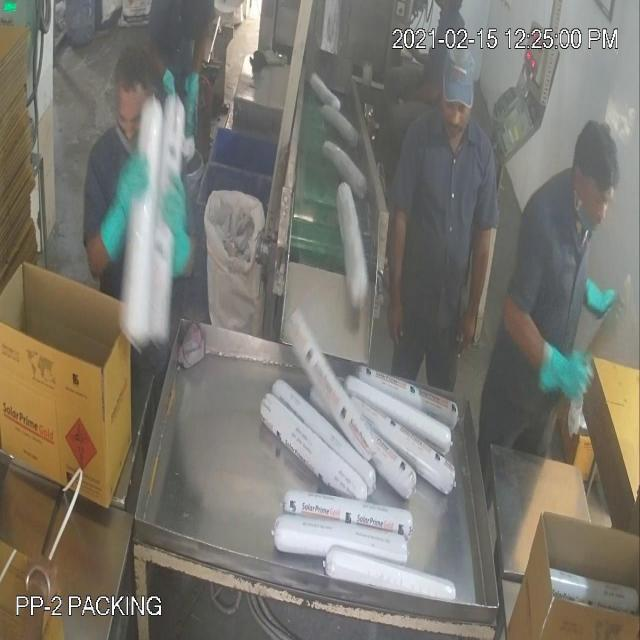Gloves: (28, 83, 564, 368)
